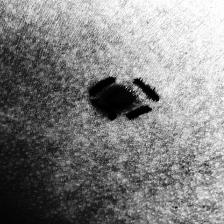Benign Marking or Mole: (106, 88, 139, 107)
